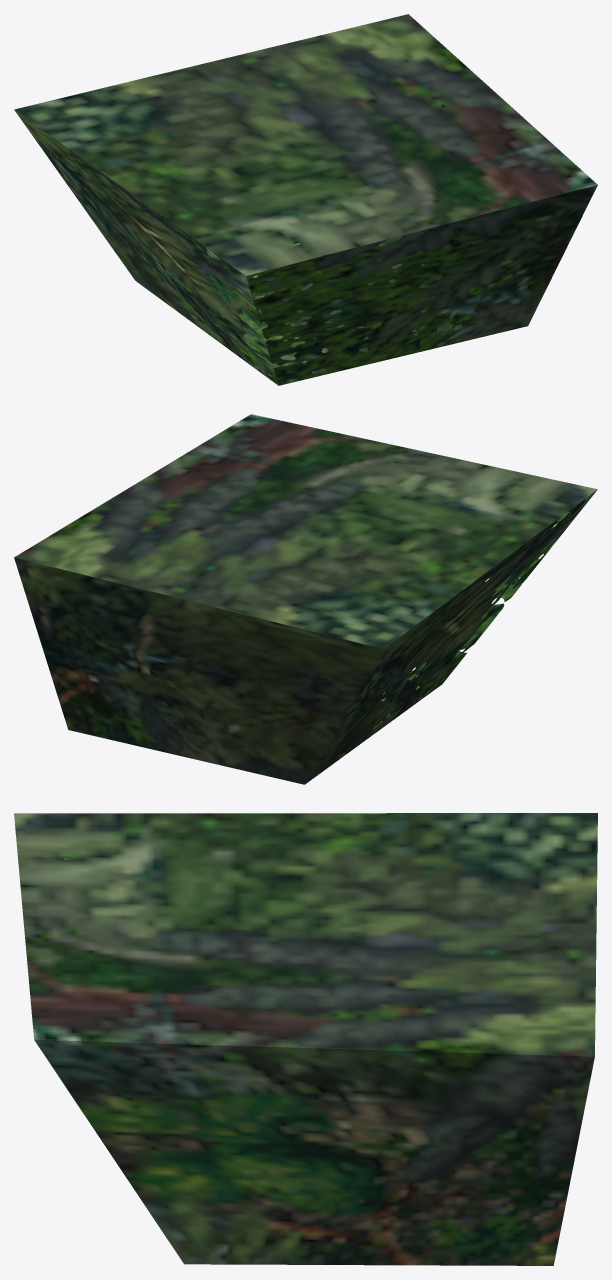
The model's file is BurntTree_2_B_3.gltf.
3 renders of one model, top to bottom at view 1: azimuth 30°, elevation 25°; view 2: azimuth 150°, elevation 25°; view 3: azimuth 270°, elevation 25°, orthographic. The views are drawn at different scales.
Parts seen in each view (by area): view 1: BurntTree_2_B_3; view 2: BurntTree_2_B_3; view 3: BurntTree_2_B_3.
Part boxes in pixels (left/top/right/bottom): BurntTree_2_B_3: left=14, top=14, right=597, bottom=385; BurntTree_2_B_3: left=14, top=414, right=597, bottom=784; BurntTree_2_B_3: left=14, top=813, right=597, bottom=1265.
Bounding box in the file's own units: 0.8294 × 0.3732 × 0.8383.
1 material, 1 textured.
